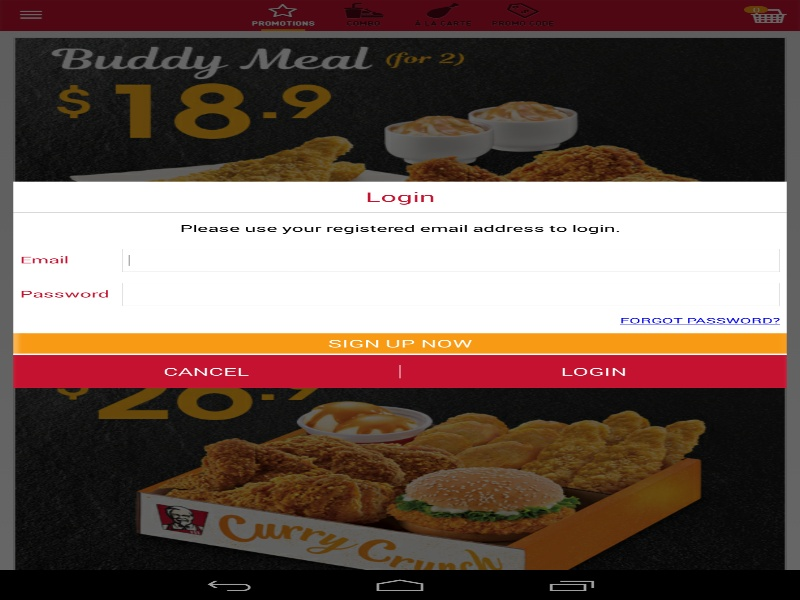Input: (122, 248, 780, 271), (122, 282, 780, 305)
